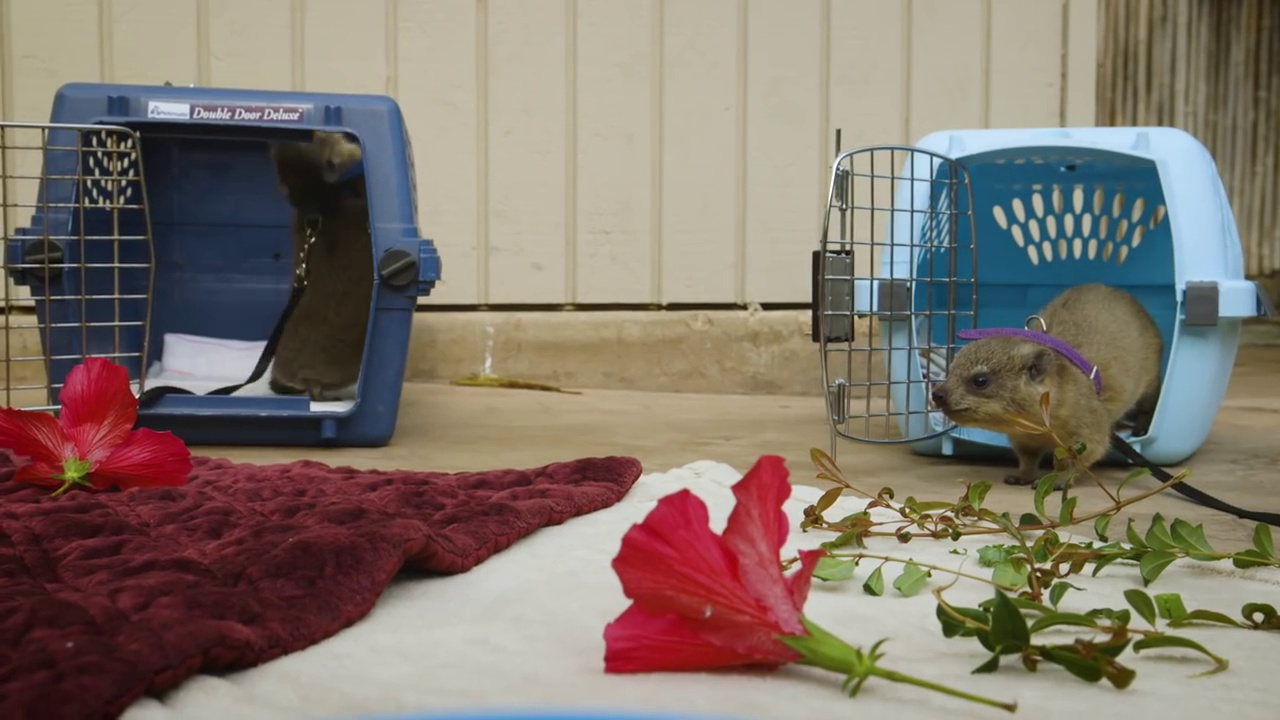Rock Hyrex: (931, 258, 1166, 488), (256, 117, 378, 397)
